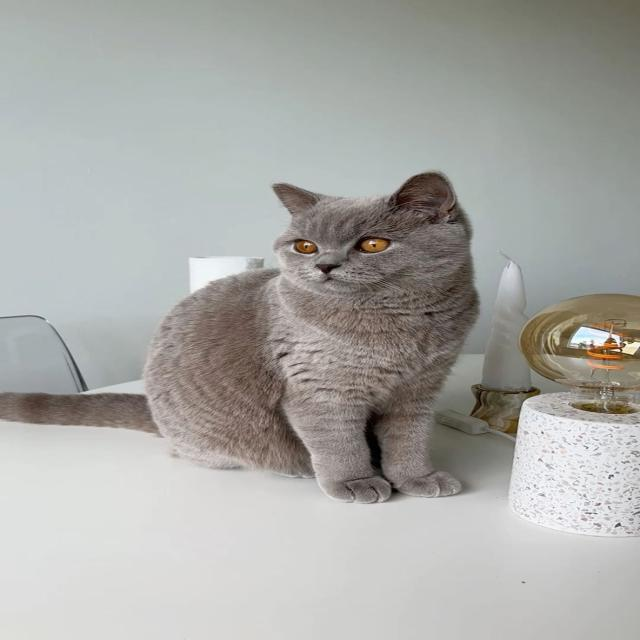british shorthair: (0, 173, 554, 578)
